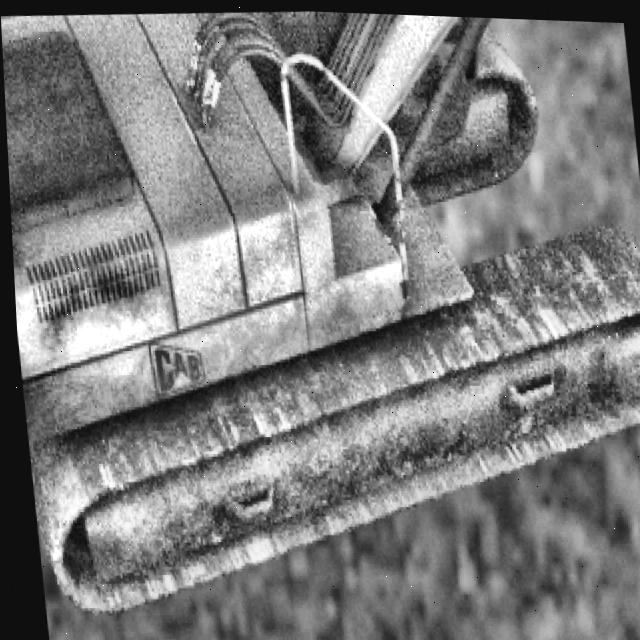excavator: (0, 0, 640, 632)
